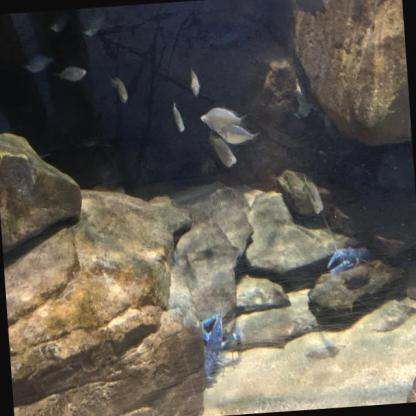fish: (199, 103, 248, 134), (206, 129, 238, 172), (216, 122, 263, 148), (301, 172, 323, 214), (22, 52, 56, 76), (108, 72, 130, 107), (54, 64, 88, 85), (170, 98, 186, 137), (188, 64, 203, 100), (80, 26, 99, 40)
